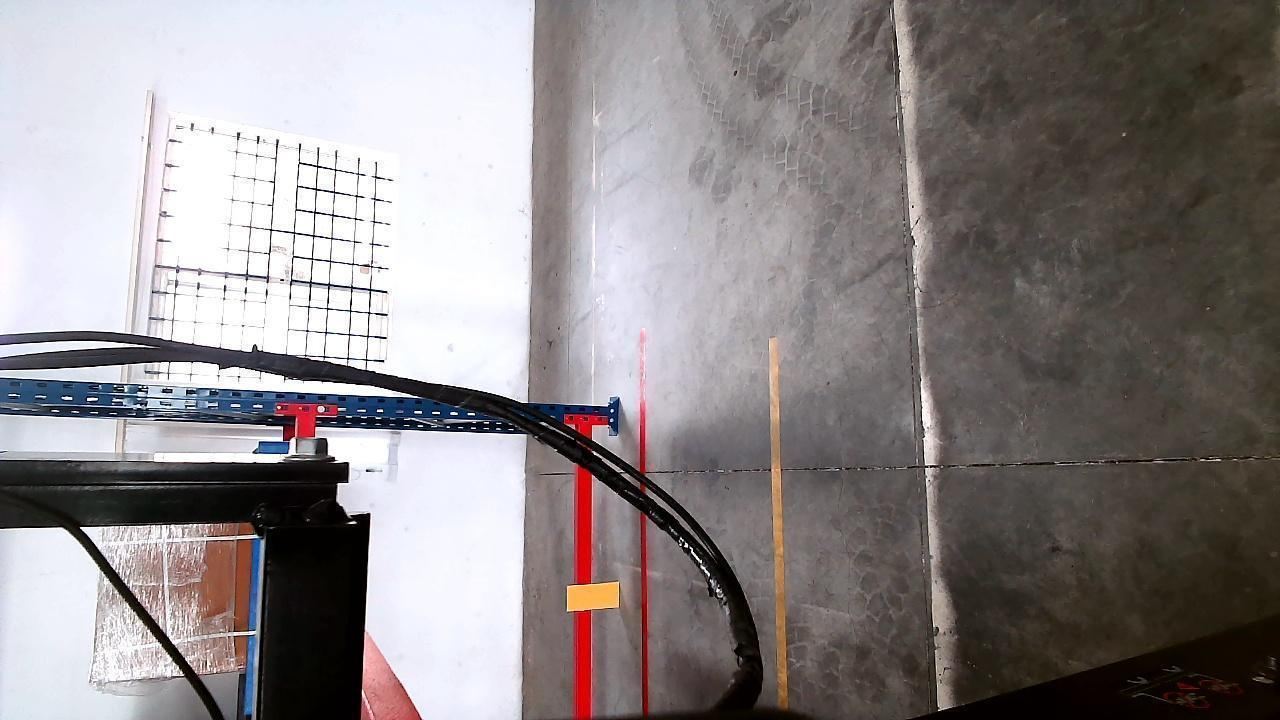red_line: (640, 330, 654, 708)
yellow_line: (769, 336, 792, 708)
